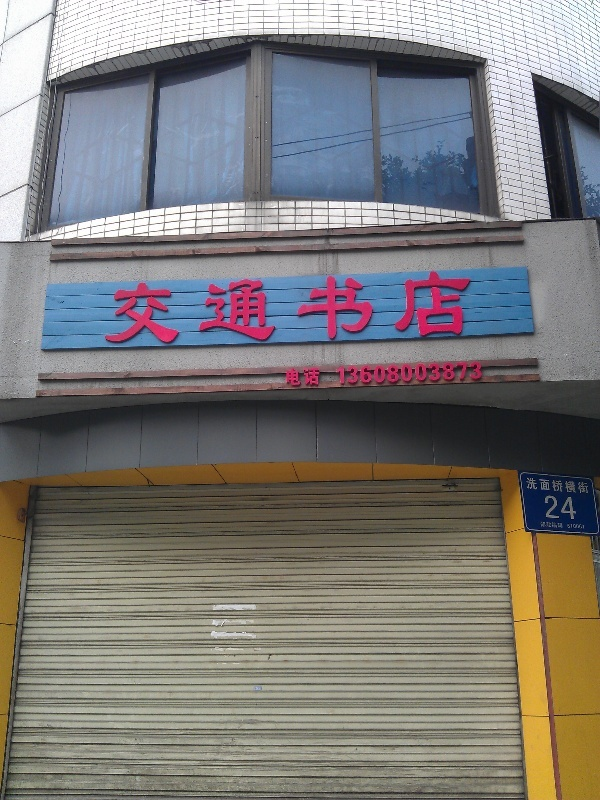text: (113, 271, 128, 347), (129, 271, 144, 347), (145, 271, 160, 347), (161, 271, 176, 347), (177, 271, 192, 347), (193, 271, 208, 347), (209, 271, 224, 347), (225, 271, 240, 347), (241, 271, 256, 347), (257, 271, 272, 347), (273, 271, 288, 347), (289, 271, 304, 347), (305, 271, 320, 347), (321, 271, 336, 347), (337, 271, 352, 347), (353, 271, 368, 347), (369, 271, 384, 347), (385, 271, 400, 347), (401, 271, 416, 347), (417, 271, 432, 347), (433, 271, 448, 347), (449, 271, 464, 347), (465, 271, 474, 347), (106, 271, 112, 347), (545, 494, 560, 521), (561, 494, 576, 521), (337, 360, 352, 385), (353, 360, 368, 385), (369, 360, 384, 385), (385, 360, 400, 385), (401, 360, 416, 385), (417, 360, 432, 385), (433, 360, 448, 385), (449, 360, 464, 385), (465, 360, 480, 385), (305, 367, 321, 388), (289, 367, 304, 388), (529, 477, 544, 494), (545, 477, 560, 494), (561, 477, 576, 494), (577, 477, 589, 494), (545, 522, 560, 529), (284, 367, 288, 388), (567, 524, 576, 530), (481, 360, 483, 385), (577, 524, 585, 530), (526, 477, 528, 494), (543, 494, 544, 521), (577, 494, 578, 521), (335, 360, 336, 385), (541, 522, 544, 529), (561, 522, 564, 529)
